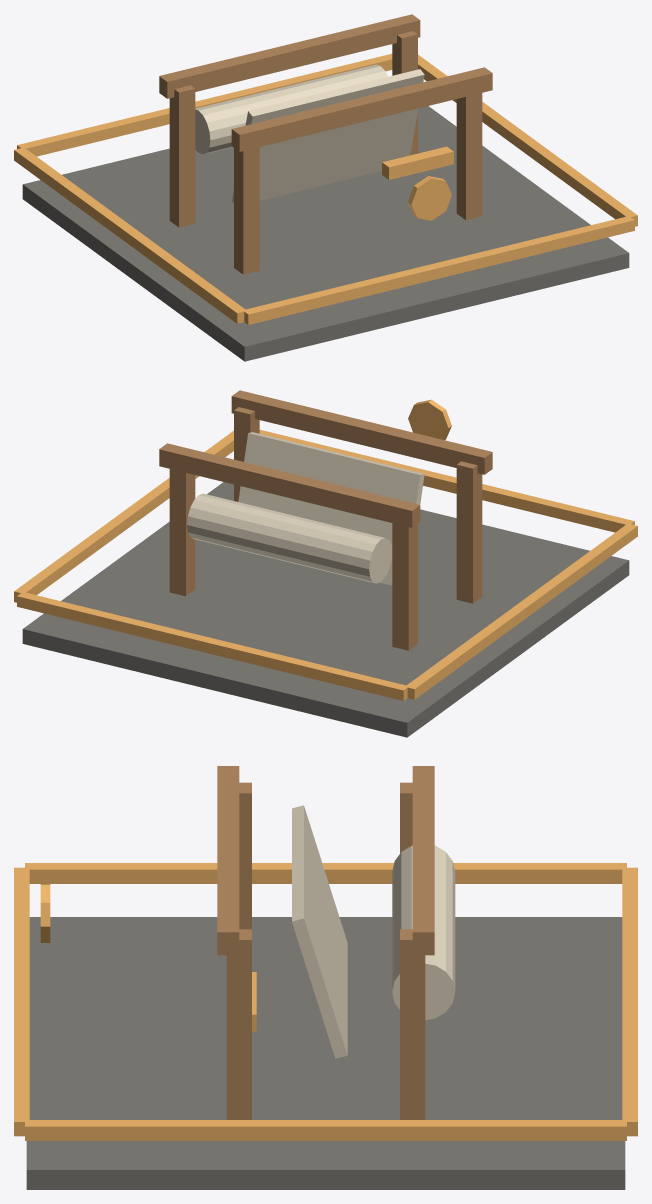
The model's file is t6_loom.glb.
3 renders of one model, top to bottom at view 1: azimuth 30°, elevation 25°; view 2: azimuth 150°, elevation 25°; view 3: azimuth 270°, elevation 25°, orthographic. The views are drawn at different scales.
Parts seen in each view (by area): view 1: FootprintBase, ClothSheet, FrontBeam, TierFrontTrim, BackBeam, TierLeftTrim, ClothRoll, TierBackTrim, FramePost.001, TierRightTrim, FramePost.002, FramePost (+3 smaller); view 2: FootprintBase, ClothRoll, ClothSheet, BackBeam, TierBackTrim, FrontBeam, TierLeftTrim, TierFrontTrim, FramePost, TierRightTrim, FramePost.001, FramePost.003 (+2 smaller); view 3: FootprintBase, TierRightTrim, TierLeftTrim, ClothSheet, ClothRoll, FramePost.002, FramePost.003, BackBeam, FrontBeam, TierBackTrim, TierFrontTrim, FramePost (+2 smaller).
Part boxes in pixels (x1=…): FootprintBase: x1=22, y1=106, x2=629, y2=361; ClothSheet: x1=232, y1=69, x2=424, y2=202; FrontBeam: x1=231, y1=67, x2=492, y2=151; TierFrontTrim: x1=243, y1=216, x2=634, y2=324; BackBeam: x1=159, y1=14, x2=420, y2=98; TierLeftTrim: x1=14, y1=148, x2=245, y2=323; ClothRoll: x1=195, y1=64, x2=387, y2=154; TierBackTrim: x1=17, y1=53, x2=392, y2=156; FramePost.001: x1=169, y1=85, x2=195, y2=227; TierRightTrim: x1=418, y1=54, x2=637, y2=226; FramePost.002: x1=456, y1=93, x2=482, y2=220; FramePost: x1=234, y1=147, x2=259, y2=274; FootprintBase: x1=22, y1=482, x2=629, y2=737; ClothRoll: x1=187, y1=493, x2=392, y2=583; ClothSheet: x1=238, y1=432, x2=424, y2=585; BackBeam: x1=159, y1=443, x2=420, y2=527; TierBackTrim: x1=17, y1=592, x2=408, y2=700; FrontBeam: x1=231, y1=390, x2=492, y2=474; TierLeftTrim: x1=406, y1=524, x2=637, y2=699; TierFrontTrim: x1=259, y1=429, x2=634, y2=532; FramePost: x1=456, y1=461, x2=482, y2=603; TierRightTrim: x1=14, y1=430, x2=233, y2=602; FramePost.001: x1=392, y1=523, x2=417, y2=650; FramePost.003: x1=169, y1=469, x2=195, y2=596; FootprintBase: x1=26, y1=917, x2=625, y2=1189; TierRightTrim: x1=25, y1=1120, x2=626, y2=1140; TierLeftTrim: x1=25, y1=863, x2=626, y2=883; ClothSheet: x1=292, y1=805, x2=347, y2=1058; ClothRoll: x1=392, y1=845, x2=455, y2=1020; FramePost.002: x1=226, y1=929, x2=251, y2=1119; FramePost.003: x1=400, y1=929, x2=425, y2=1119; BackBeam: x1=412, y1=766, x2=434, y2=955; FrontBeam: x1=217, y1=766, x2=239, y2=955; TierBackTrim: x1=622, y1=867, x2=637, y2=1136; TierFrontTrim: x1=14, y1=867, x2=29, y2=1136; FramePost: x1=239, y1=782, x2=251, y2=929.
Bounding box in the file's own units: 3.96 × 1.5 × 3.96.
